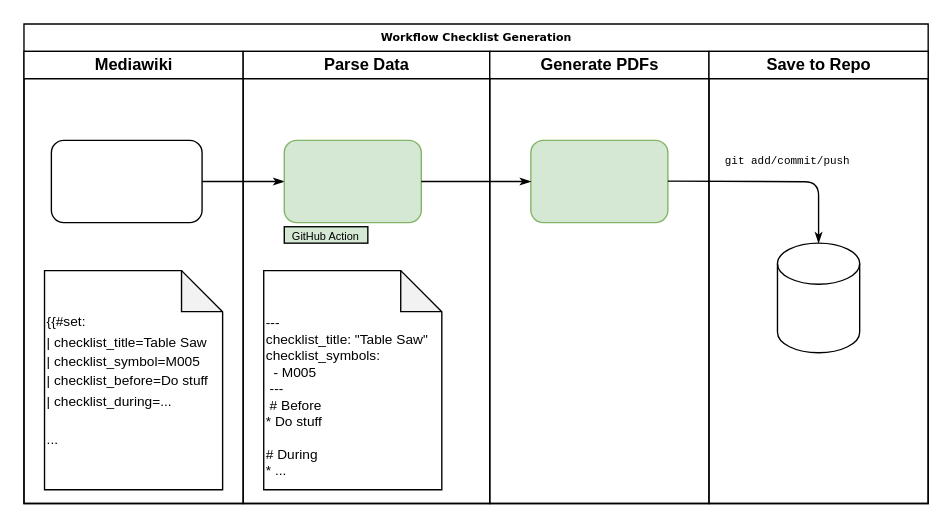
This 952x527 diagram has some shape labels left out. Each missing label, with the centre of its shape:
"Final PDFs" belongs at point 818,297.
"Generate Markdown files from Media Wiki API request" belongs at point 352,181.
"Semantic Media Wiki Properties on 'Introduction' pages" belongs at point 126,181.
"Use pandoc to create PDFs from the Markdown files" belongs at point 599,181.
